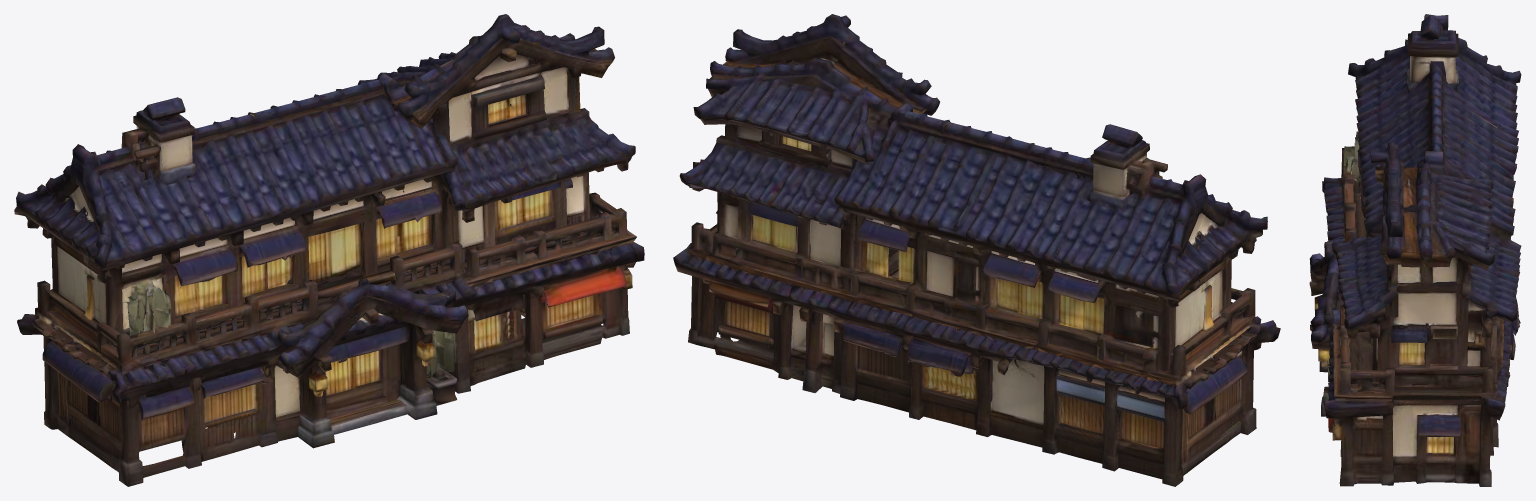
File: candidate.glb
3 views of the same model, side by side, from view 1: azimuth 30°, elevation 25°; view 2: azimuth 150°, elevation 25°; view 3: azimuth 270°, elevation 25° (orthographic). The views are drawn at different scales.
Visible parts, largest first — view 1: compact__skyscraper_2__native_mobile; view 2: compact__skyscraper_2__native_mobile; view 3: compact__skyscraper_2__native_mobile.
Boxes of the visible parts, bbox=[...] form: compact__skyscraper_2__native_mobile: bbox=[14, 14, 644, 486]; compact__skyscraper_2__native_mobile: bbox=[673, 14, 1280, 486]; compact__skyscraper_2__native_mobile: bbox=[1309, 14, 1521, 486].
Bounding box in the file's own units: 1 × 0.6218 × 0.3676.
1 material, 1 textured.
